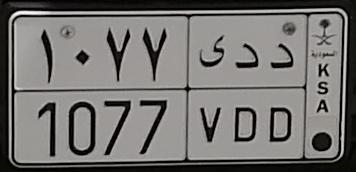0: (68, 48, 97, 156)
1: (36, 29, 58, 159)
7: (139, 26, 169, 155), (104, 25, 132, 156)
D: (269, 41, 293, 143), (235, 42, 258, 142)
V: (198, 34, 225, 143)
